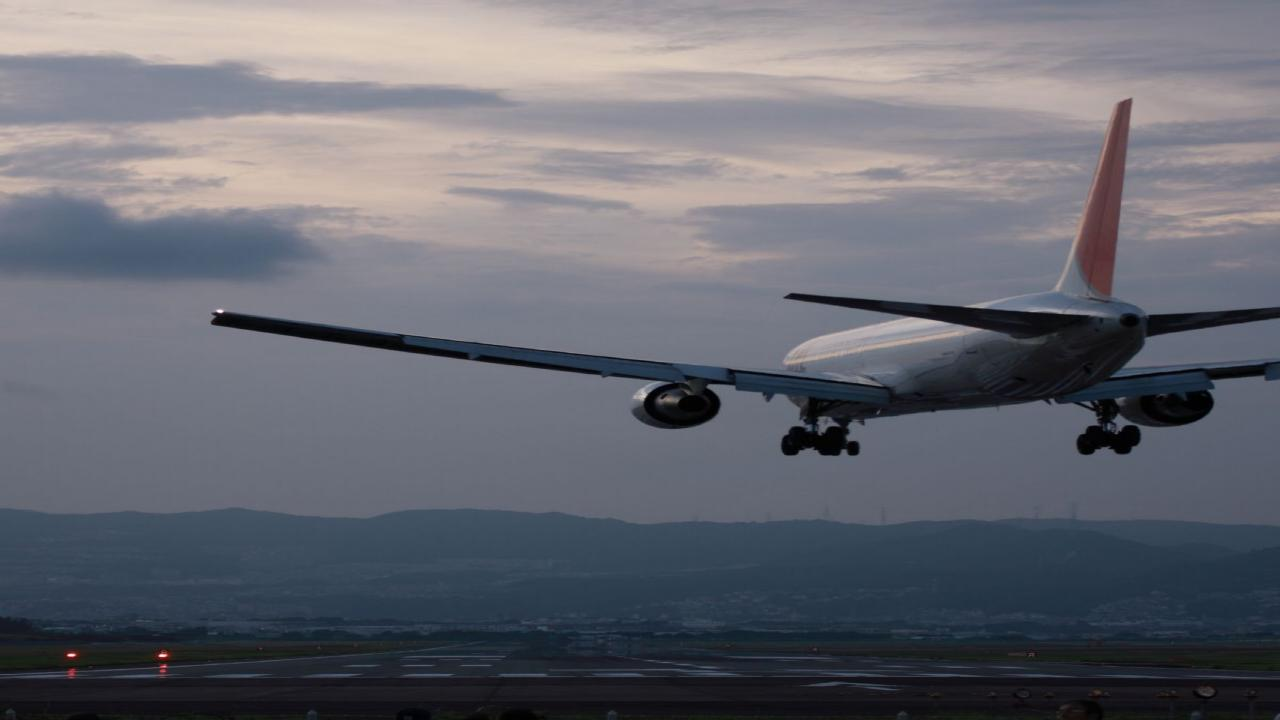Airplane: (181, 85, 1280, 471)
